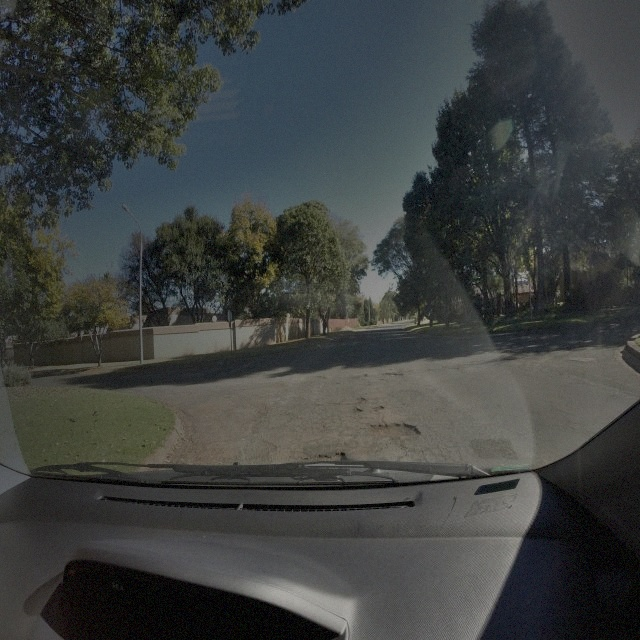pothole: (368, 422, 422, 445), (306, 455, 348, 463), (384, 370, 404, 378), (355, 374, 368, 380), (372, 406, 384, 412), (355, 408, 362, 416), (360, 397, 367, 403)
